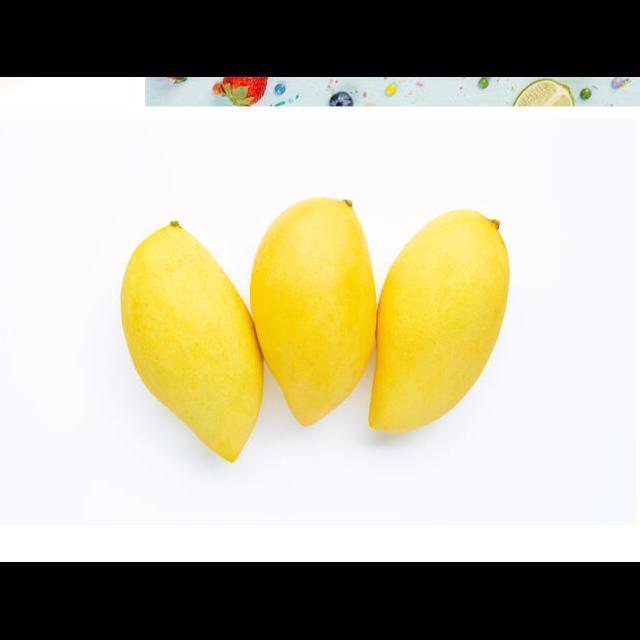mango: (122, 221, 264, 465), (367, 210, 510, 435), (252, 196, 378, 429)
